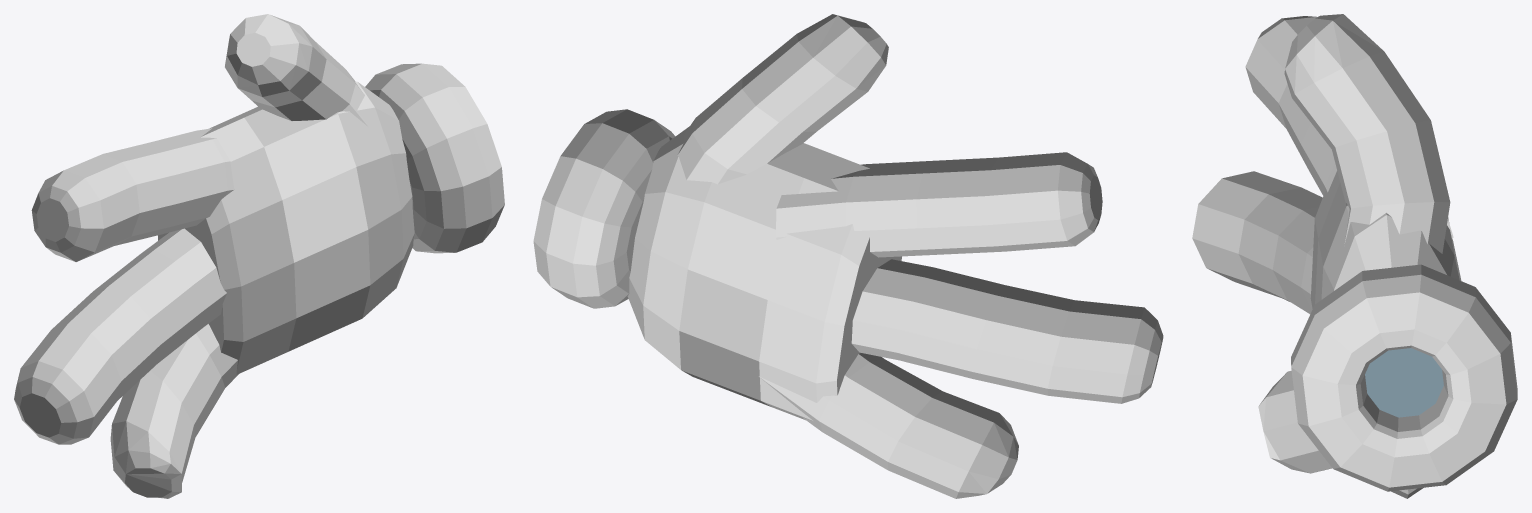
Rendered from RHand Free.FBX.
The picture shows the model from 3 angles, left to right: view 1: azimuth 30°, elevation 25°; view 2: azimuth 150°, elevation 25°; view 3: azimuth 270°, elevation 25°; orthographic projection. The views are drawn at different scales.
Parts seen in each view (by area): view 1: mesh407067505; view 2: mesh407067505; view 3: mesh407067505.
Boxes of the visible parts, left/top/right/bottom form: mesh407067505: left=14, top=14, right=504, bottom=498; mesh407067505: left=533, top=14, right=1163, bottom=498; mesh407067505: left=1192, top=14, right=1517, bottom=498.
Size of the model in its own units: 0.3067 by 0.2517 by 0.1435.
